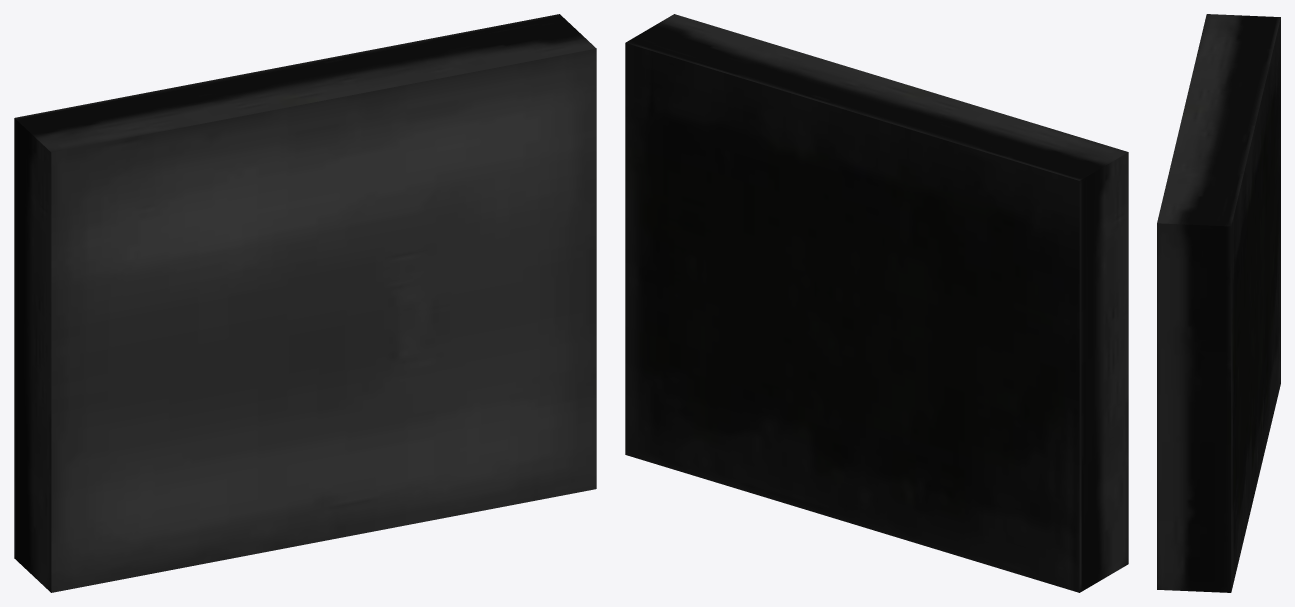
The model's file is seat__seat_pad.glb.
3 views of the same model, side by side, from view 1: azimuth 30°, elevation 25°; view 2: azimuth 150°, elevation 25°; view 3: azimuth 270°, elevation 25° (orthographic). The views are drawn at different scales.
Visible parts, largest first — view 1: world; view 2: world; view 3: world.
Boxes of the visible parts, x1,y1,x2,y2 form: world: (14,14,596,592); world: (625,14,1128,592); world: (1157,14,1280,592).
Bounding box in the file's own units: 0.3232 × 0.26 × 0.0797.
Materials: 1 (1 with a texture image).
